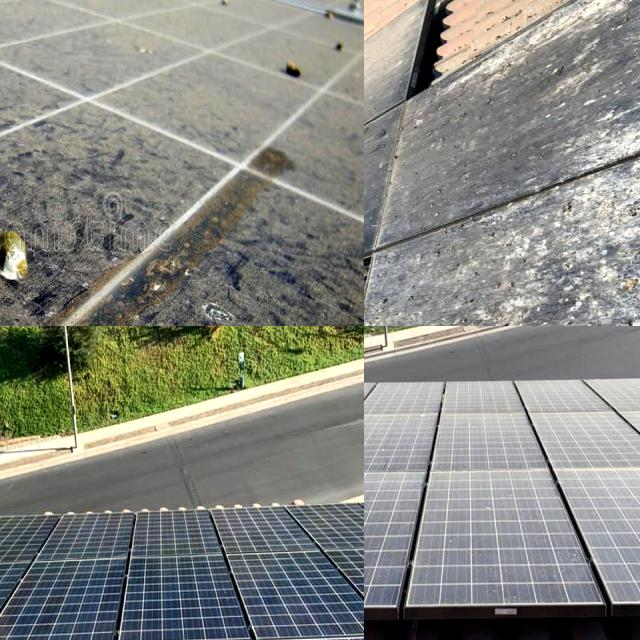bird: (364, 243, 420, 326), (458, 188, 508, 272), (0, 224, 55, 296), (450, 115, 528, 159), (148, 239, 206, 295), (430, 40, 501, 81), (468, 281, 524, 326), (281, 37, 317, 94), (535, 230, 581, 274), (364, 88, 417, 124), (364, 217, 419, 249), (364, 137, 401, 176), (364, 48, 399, 76), (364, 189, 392, 218), (0, 288, 22, 319), (630, 234, 640, 276)
crack: (128, 592, 228, 636), (247, 584, 336, 630), (132, 513, 226, 555), (15, 603, 111, 640), (0, 576, 40, 640)
dust: (438, 477, 546, 583), (364, 479, 414, 594), (364, 385, 511, 414), (605, 470, 640, 582), (450, 415, 534, 458), (364, 411, 423, 465), (547, 426, 640, 452), (540, 384, 640, 407), (364, 481, 382, 591), (364, 387, 385, 458), (364, 424, 383, 464)
